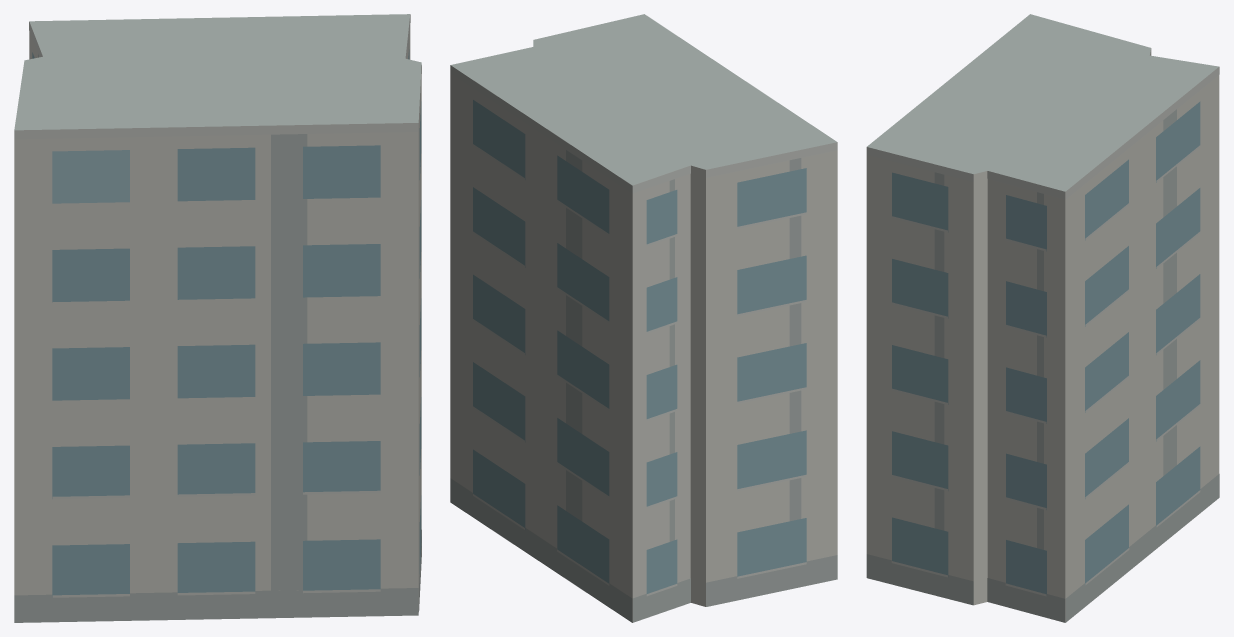
The model's file is survey-upis-32939210.glb.
The picture shows the model from 3 angles, left to right: view 1: azimuth 30°, elevation 25°; view 2: azimuth 150°, elevation 25°; view 3: azimuth 270°, elevation 25°; orthographic projection. The views are drawn at different scales.
Visible parts, largest first — view 1: survey-upis-32939210.tmp; view 2: survey-upis-32939210.tmp; view 3: survey-upis-32939210.tmp.
Part boxes in pixels (x1,y1,x2,y2): survey-upis-32939210.tmp: (14,14,421,622); survey-upis-32939210.tmp: (450,14,837,622); survey-upis-32939210.tmp: (866,14,1219,622).
Bounding box in the file's own units: 11.68 × 13.2 × 9.8.
